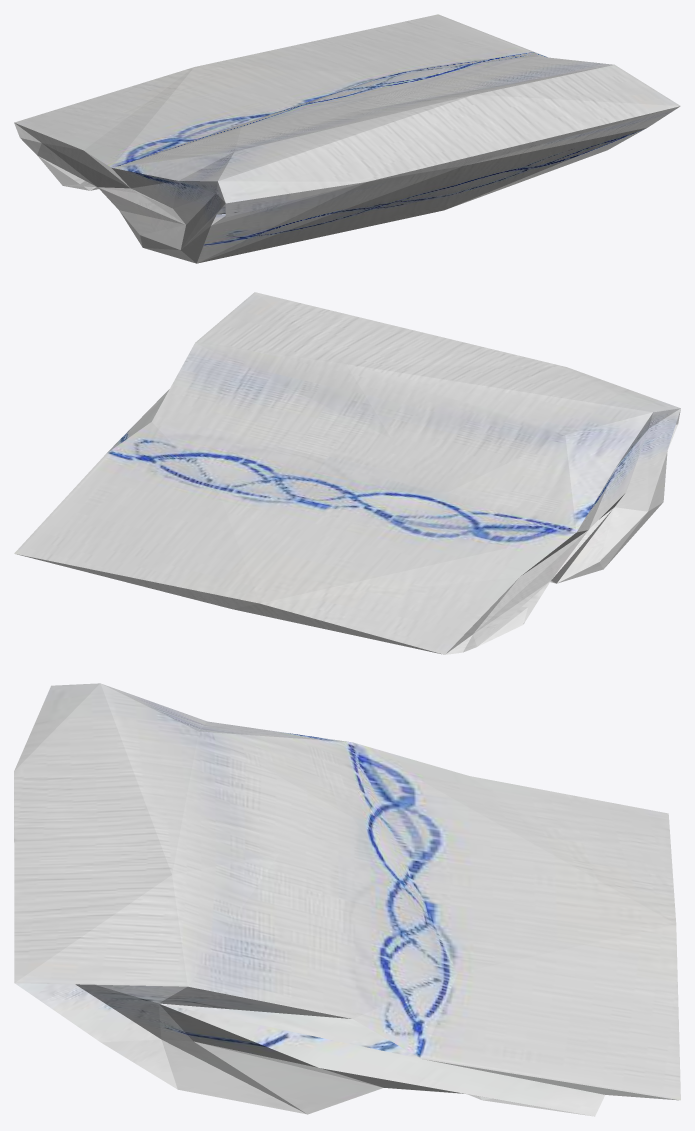
The model's file is Gauze.glb.
3 views of the same model, one above another, from view 1: azimuth 30°, elevation 25°; view 2: azimuth 150°, elevation 25°; view 3: azimuth 270°, elevation 25° (orthographic). The views are drawn at different scales.
Visible parts, largest first — view 1: Gauze; view 2: Gauze; view 3: Gauze.
Part boxes in pixels (<box>): Gauze: <box>14,14,680,263</box>; Gauze: <box>14,292,680,654</box>; Gauze: <box>14,683,680,1116</box>.
Bounding box in the file's own units: 0.2 × 0.0464 × 0.1869.
1 material, 1 textured.
